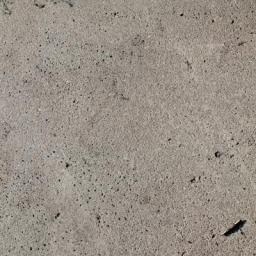FOD: (221, 216, 248, 240)
